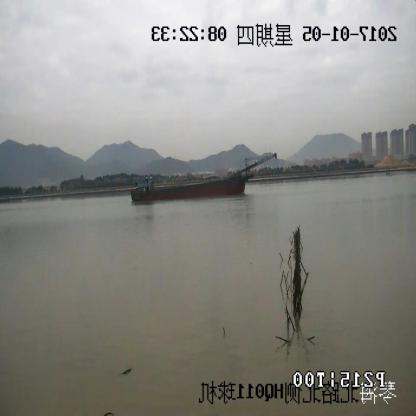Bulk Carrier: (130, 155, 276, 202)
